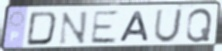A: (118, 10, 151, 44)
D: (25, 10, 60, 47)
E: (88, 9, 121, 45)
N: (57, 10, 90, 46)
Q: (184, 7, 214, 44)
U: (152, 7, 185, 44)
